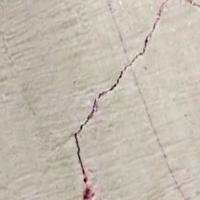crack: (66, 0, 192, 199)
